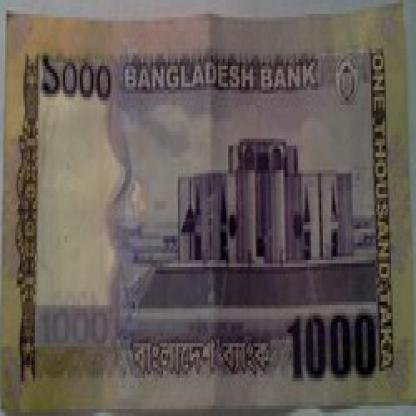One Thousand taka: (288, 312, 379, 385), (40, 45, 111, 111), (36, 305, 112, 350)
